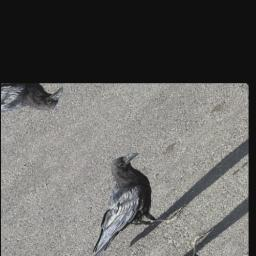Crow: (45, 144, 196, 256)
